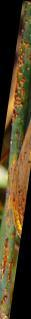Wheat: (10, 114, 26, 218), (16, 31, 29, 105), (2, 227, 14, 282)
